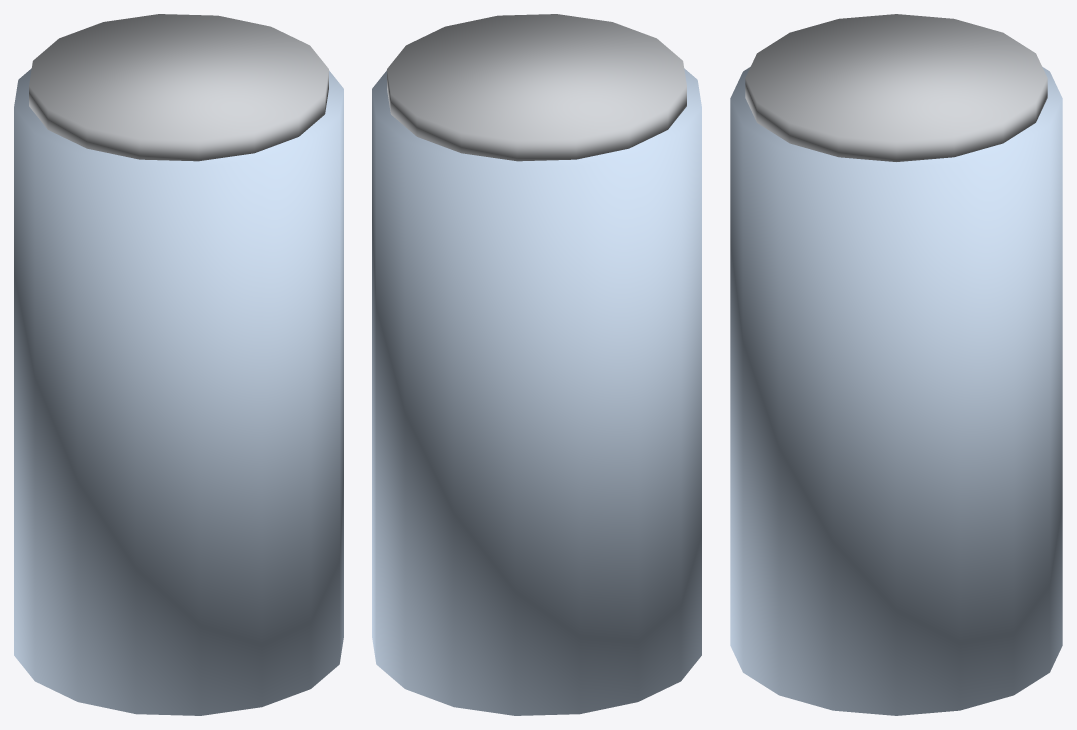
The model's file is SM_SodaCan.fbx.
The picture shows the model from 3 angles, left to right: view 1: azimuth 30°, elevation 25°; view 2: azimuth 150°, elevation 25°; view 3: azimuth 270°, elevation 25°; orthographic projection.
Visible parts, largest first — view 1: SM_SodaCan; view 2: SM_SodaCan; view 3: SM_SodaCan.
Part boxes in pixels (x1,y1,x2,y2): SM_SodaCan: (14, 14, 343, 715); SM_SodaCan: (372, 14, 701, 715); SM_SodaCan: (730, 14, 1062, 715).
Bounding box in the file's own units: 0.066 × 0.1245 × 0.066.
